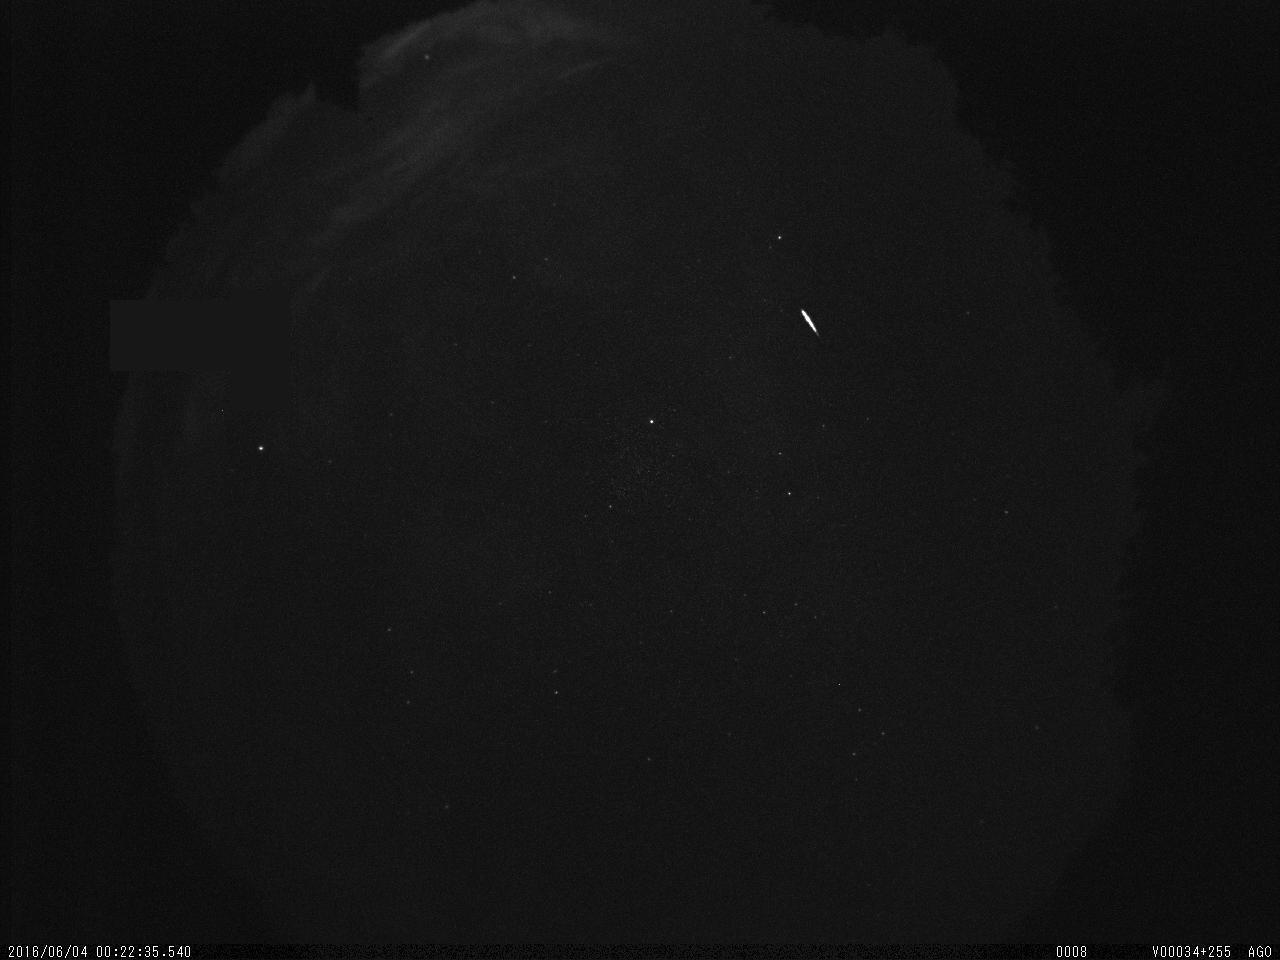Meteor: (799, 304, 822, 341)
